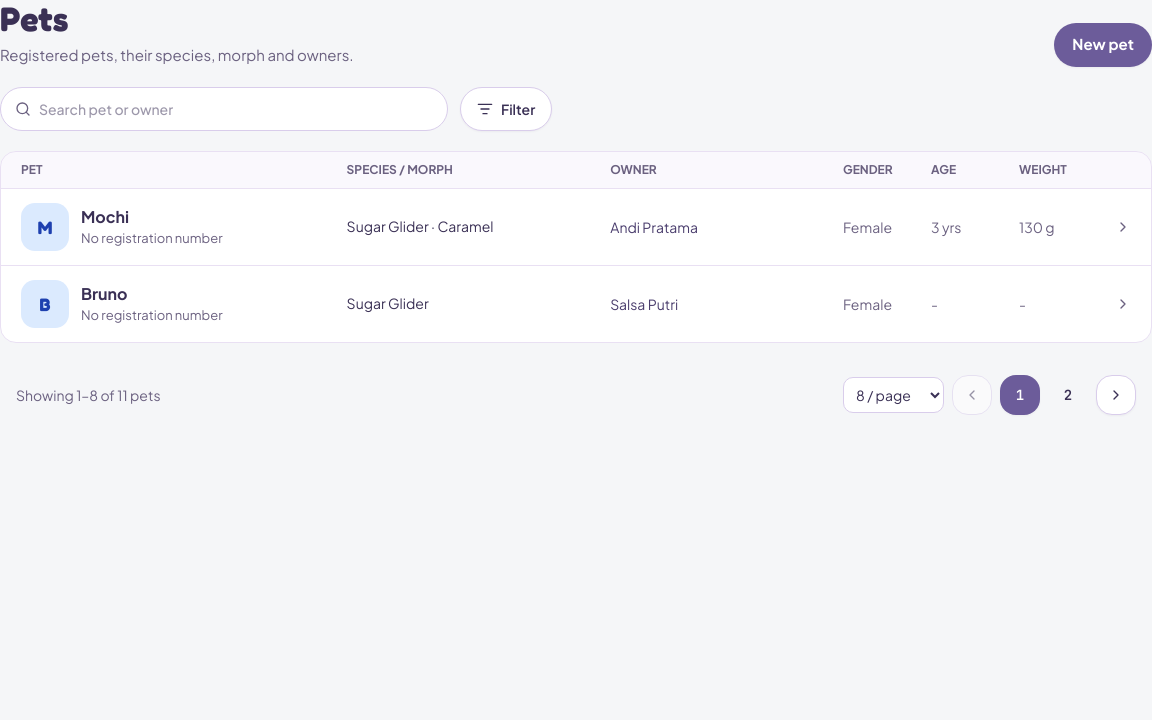
Scenario: PetsPage › builds the species chips in the Filter panel from the master, not from a fixed list
The width and height of the screenshot is (1152, 720).
Check: the link "Mochi" is shown, box x1=1 y1=188 x2=1151 y2=266
Click the button "Filter" at (506, 108), box x1=460 y1=86 x2=552 y2=130
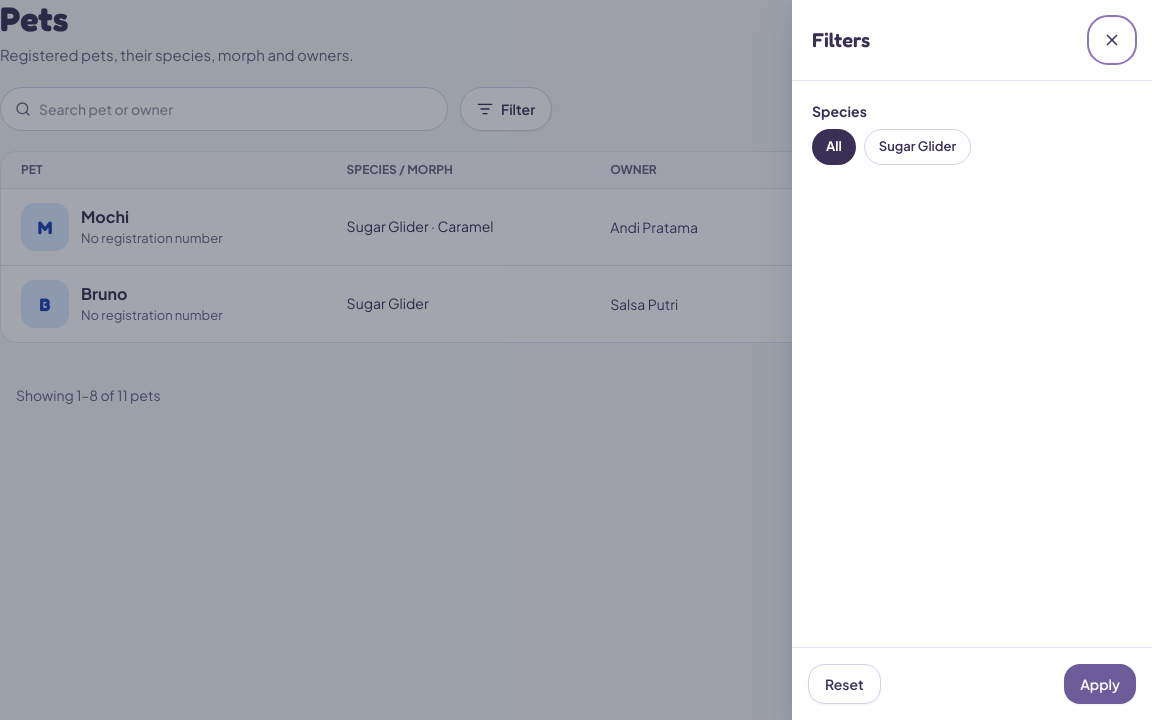
Check: the button "Sugar Glider" is shown, box x1=864 y1=129 x2=971 y2=165
